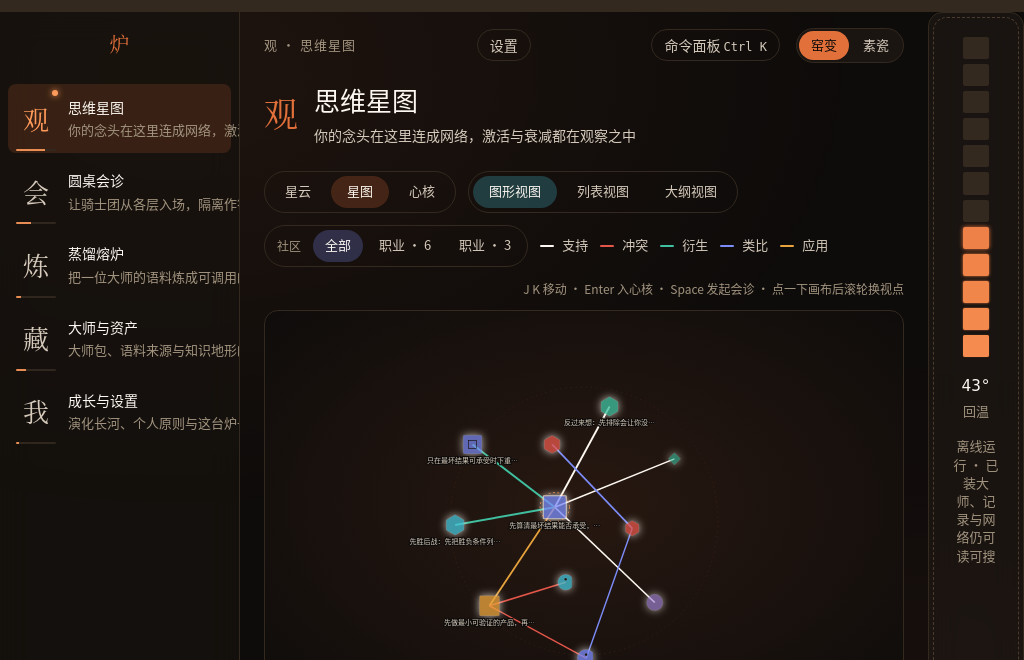
Scenario: 应用外壳 › 设置页默认关闭联网，并可逐项启用模型平台
The image size is (1024, 660).
Click the button "我 成长与设置 演化长河、个人原则与这台炉子的所有开关". click: (120, 411)
box: [8,377,231,446]
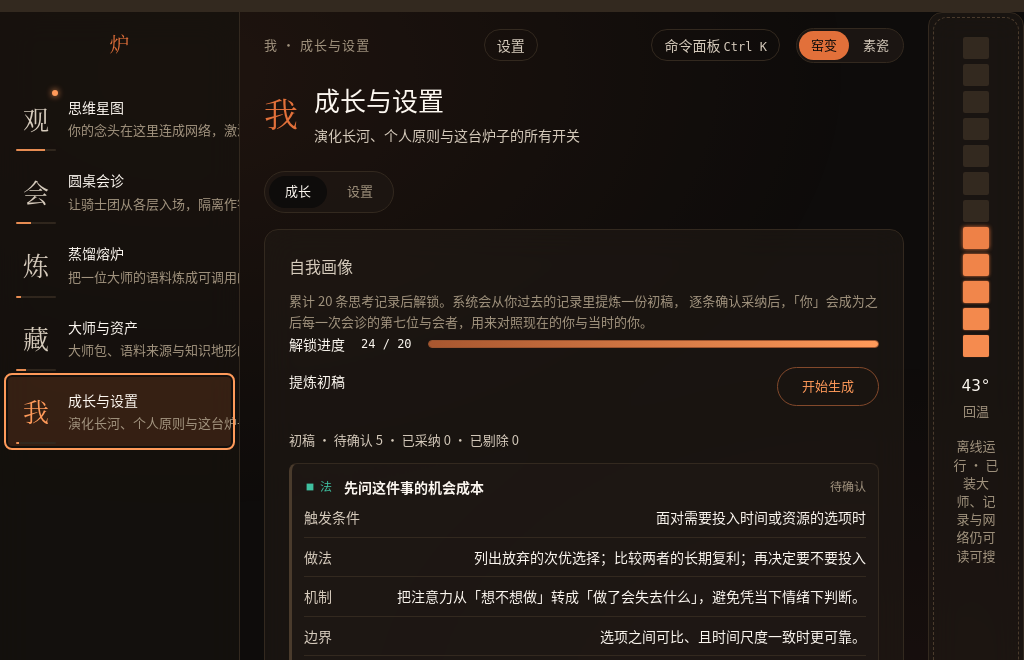
Click the tab "设置". click: (360, 192)
box: [331,176,389,208]
(page scrolled)
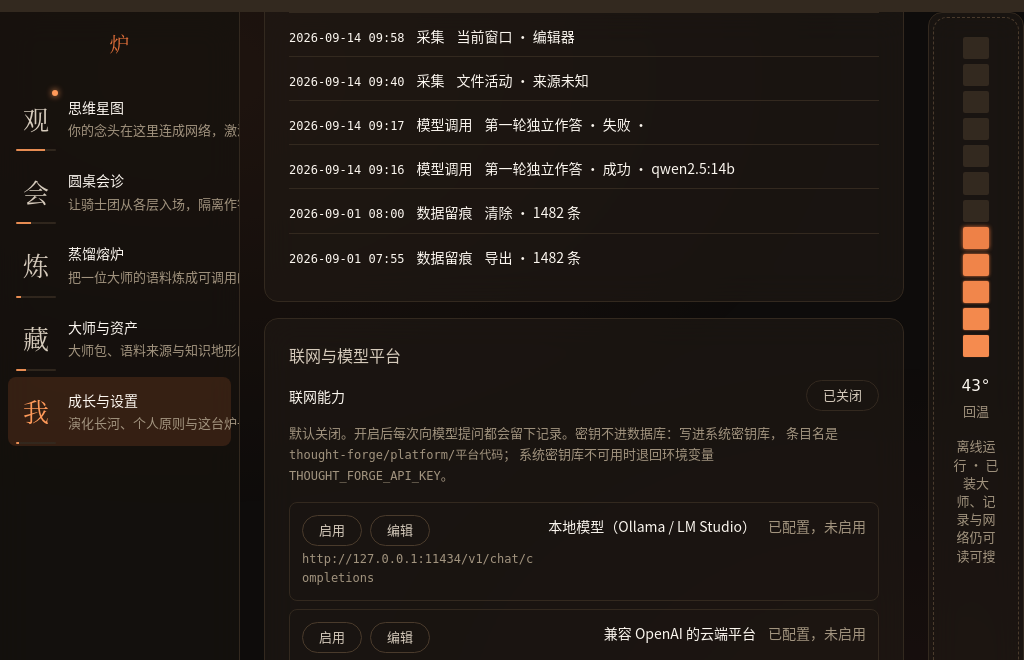
Click the switch named "联网能力". click: (842, 396)
box: [806,380,879,411]
(page scrolled)
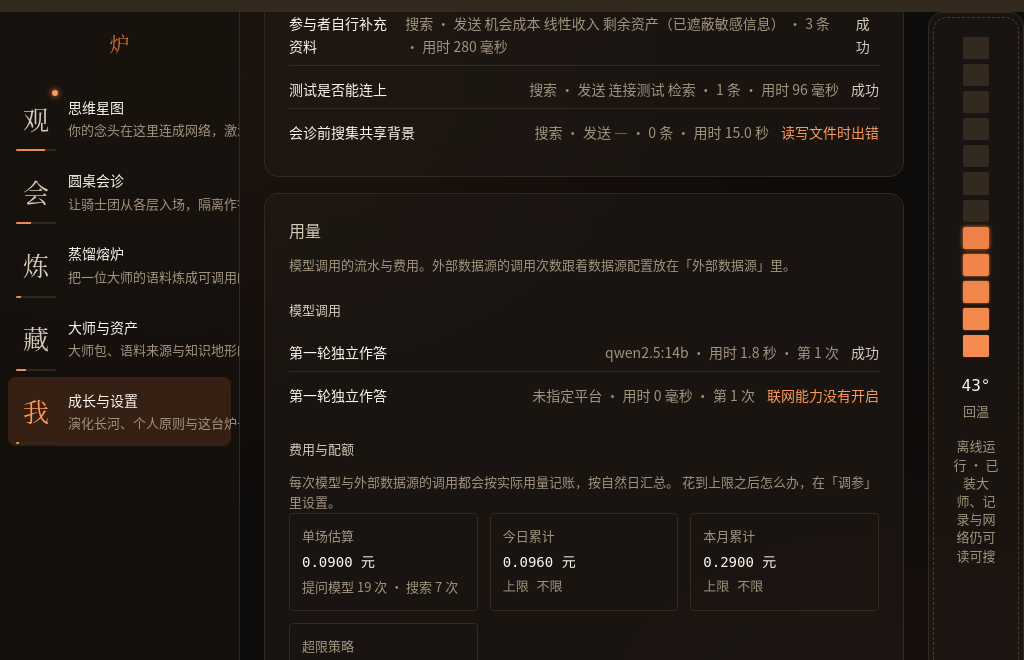
Expected: the text "联网能力没有开启" is shown, [767,384,879,407]
